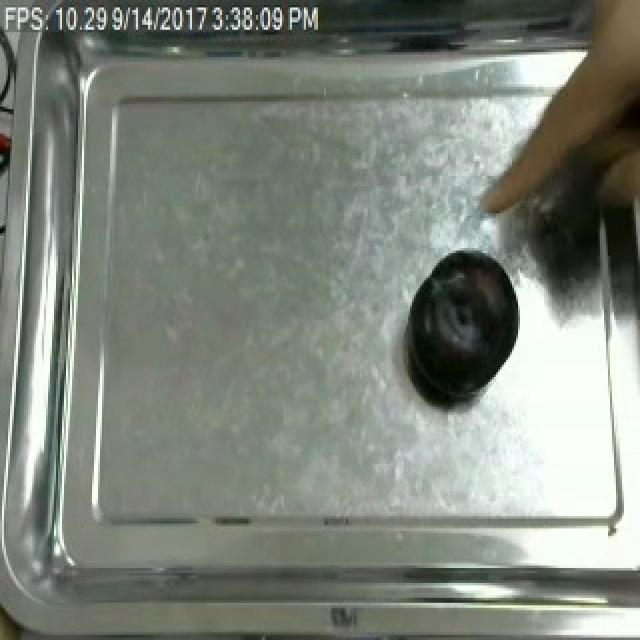Fruit: (400, 243, 524, 409)
